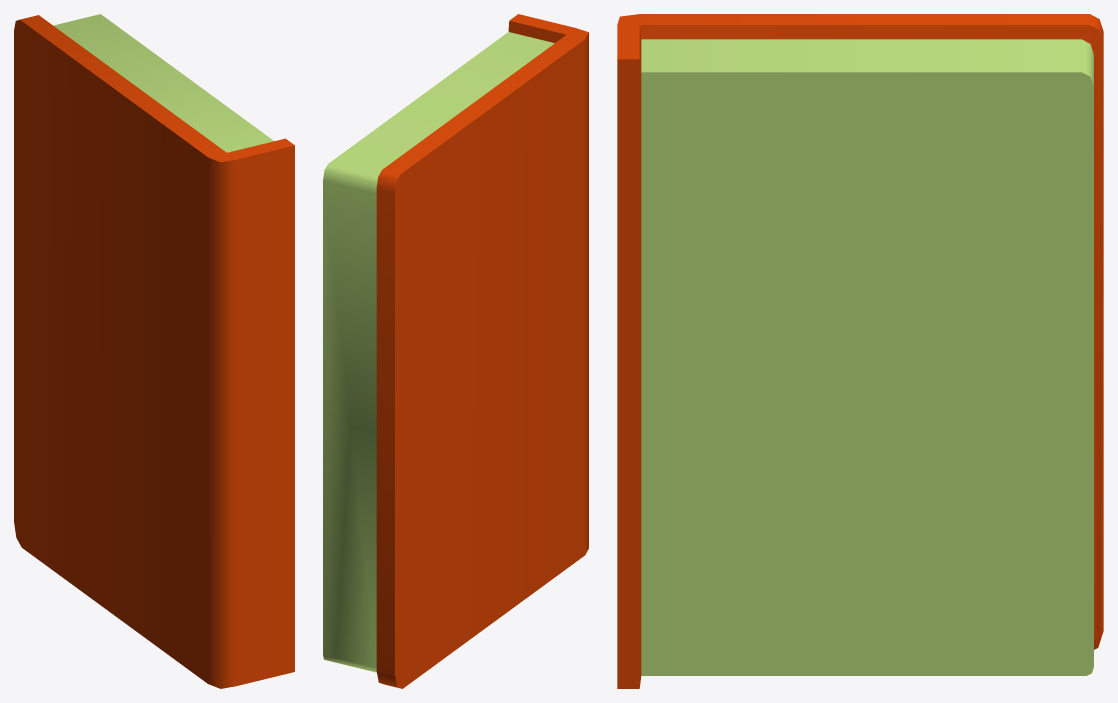
File: book.fbx
3 renders of one model, left to right at view 1: azimuth 30°, elevation 25°; view 2: azimuth 150°, elevation 25°; view 3: azimuth 270°, elevation 25°, orthographic. The views are drawn at different scales.
Visible parts, largest first — view 1: Cube; view 2: Cube; view 3: Cube.
Boxes of the visible parts, box(x1,y1,x2,y2) form: Cube: box(14, 14, 294, 688); Cube: box(323, 14, 588, 688); Cube: box(617, 14, 1103, 688).
Size of the model in its own units: 30.81 by 200 by 140.
